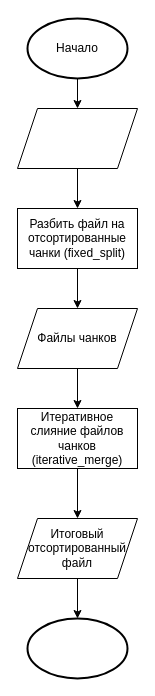
Some shapes in this 155 by 696 pixel diagram are drawn without their labels. Each missing label, with the centre of its shape:
"Входной файл" goes at [77,138].
"Конец" goes at [77,648].
